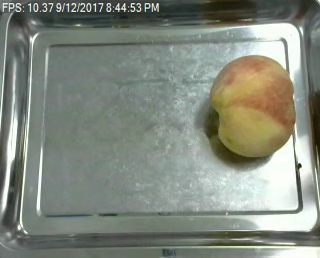Peach: (209, 54, 296, 158)
